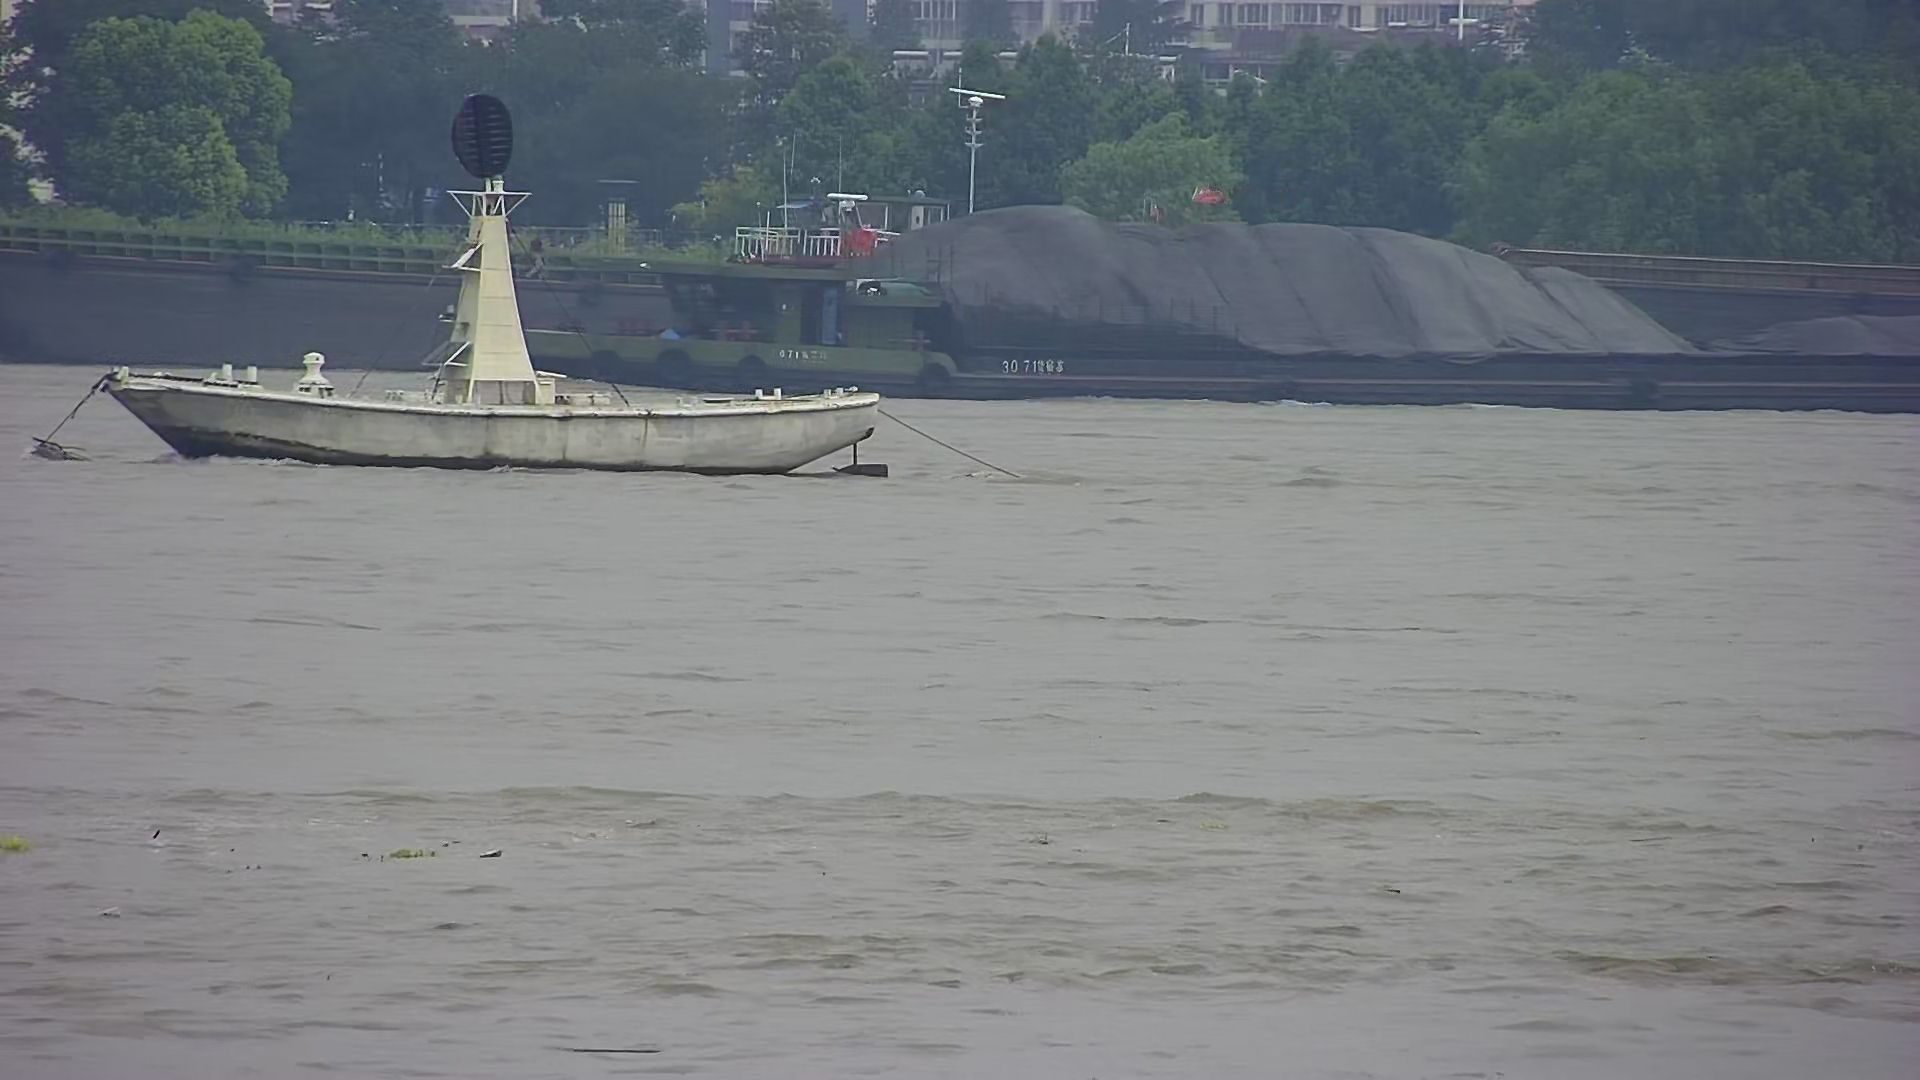boat: (87, 84, 956, 485)
ship: (518, 79, 1917, 419)
